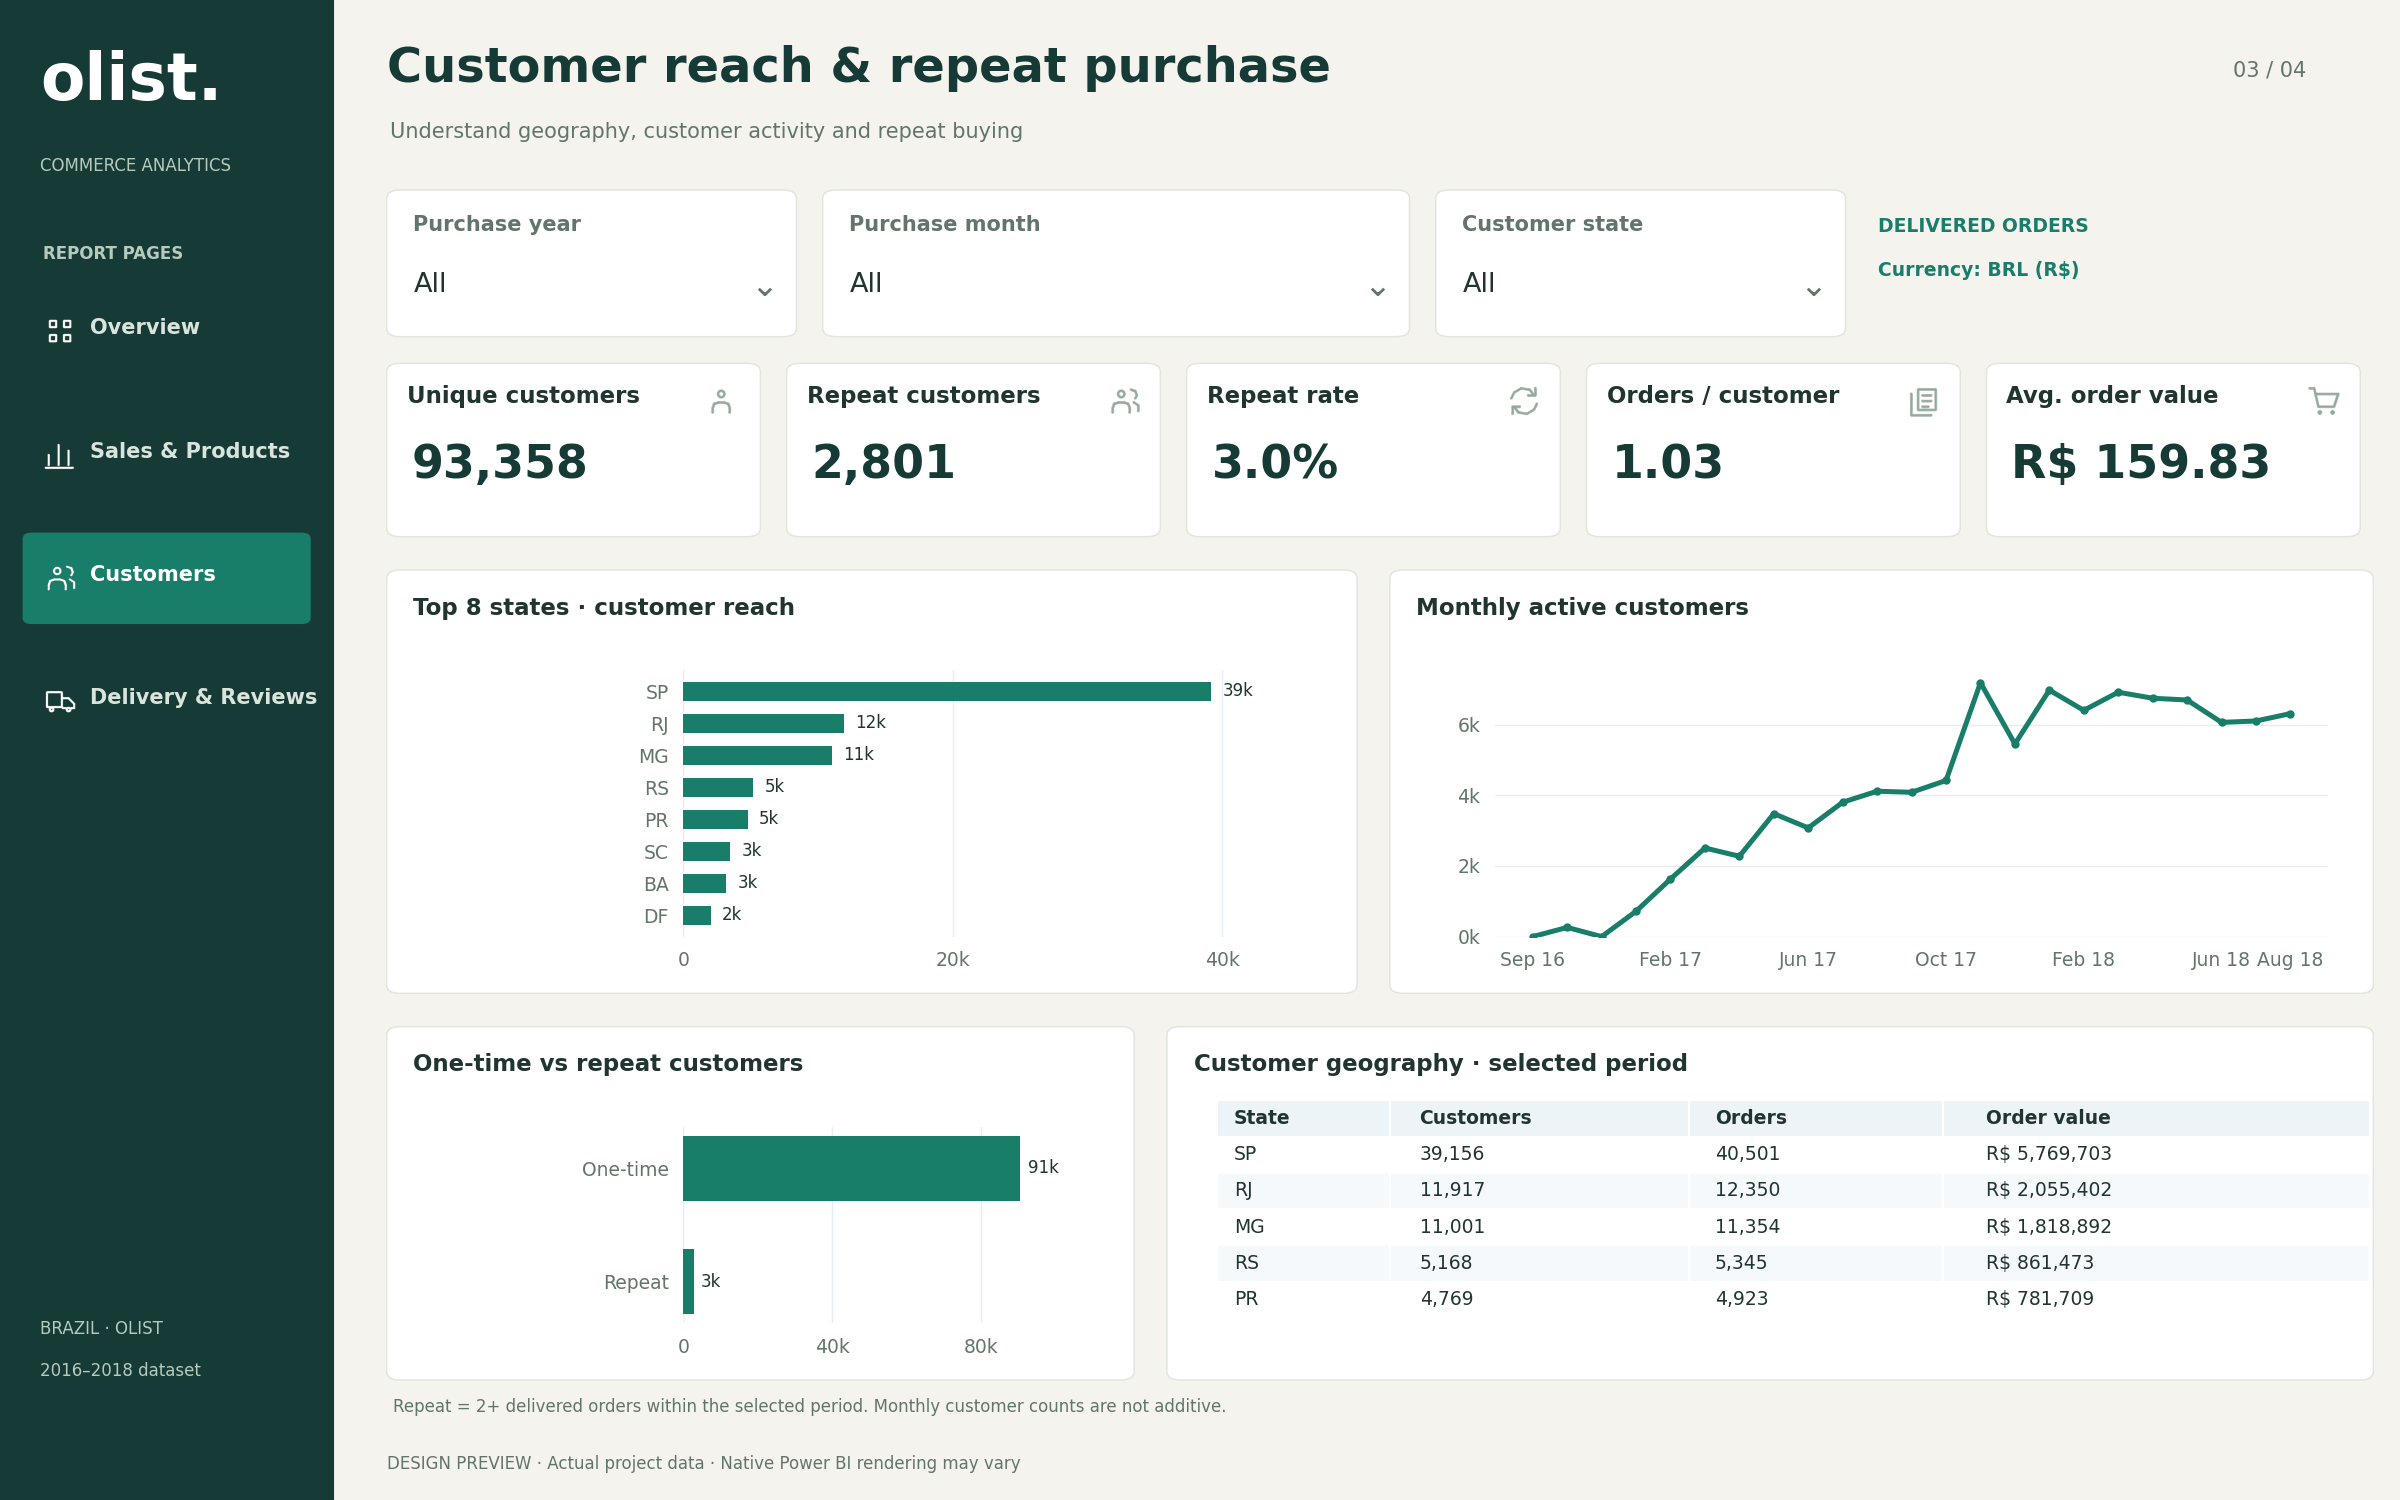

The dashboard page shown, as its layout file describes it:
{"tool":"powerbi","page":{"name":"Customers","canvas":[1440,900],"ordinal":2},"visuals":[{"type":"textbox","box":[0,0,200,900],"z":54},{"type":"textbox","box":[24,22,135,68],"z":55},{"type":"textbox","box":[24,94,140,38],"z":56},{"type":"actionButton","box":[14,172,172,54],"z":57},{"type":"actionButton","box":[14,246,172,54],"z":58},{"type":"actionButton","box":[14,320,172,54],"z":59},{"type":"actionButton","box":[14,394,172,54],"z":60},{"type":"textbox","box":[24,790,142,78],"z":61},{"type":"textbox","box":[232,18,1022.8,58],"z":62},{"type":"textbox","box":[234,72,1022.8,36],"z":63},{"type":"slicer","title":"Purchase Year","fields":{"Values":["Date.Year"]},"box":[232,114,245.9,88],"z":64},{"type":"slicer","title":"Purchase Month","fields":{"Values":["Date.Month"]},"box":[493.6,114,352.1,88],"z":65},{"type":"slicer","title":"Customer state","fields":{"Values":["Orders.State"]},"box":[861.4,114,245.9,88],"z":66},{"type":"textbox","box":[1127,114,277.4,88],"z":67},{"type":"textbox","box":[232,854,1172.3,38],"z":68},{"type":"card","fields":{"Values":["Orders.Card · Customers"]},"box":[232,218,224.2,104],"z":69},{"type":"card","fields":{"Values":["Orders.Card · Repeat Customers"]},"box":[472,218,224.2,104],"z":70},{"type":"card","fields":{"Values":["Orders.Card · Repeat Customer Rate"]},"box":[712,218,224.2,104],"z":71},{"type":"card","fields":{"Values":["Orders.Card · Orders per Customer"]},"box":[951.9,218,224.2,104],"z":72},{"type":"card","fields":{"Values":["Orders.Card · Average Order Value"]},"box":[1191.9,218,224.2,104],"z":73},{"type":"clusteredBarChart","title":"Top 8 states · customer reach","fields":{"Category":["Orders.State"],"Y":["Orders.Top State Customers"]},"box":[232,342,582.2,254],"z":74},{"type":"lineChart","title":"Monthly active customers","fields":{"Category":["Date.Month Start"],"Y":["Orders.Customers"]},"box":[833.9,342,590.1,254],"z":75},{"type":"clusteredBarChart","title":"One-time vs repeat customers","fields":{"Category":["Customer Segment.Segment"],"Y":["Orders.Segment Customers"]},"box":[232,616,448.5,212],"z":76},{"type":"tableEx","title":"Customer geography · selected period","fields":{"Values":["Orders.State","Orders.Customers","Orders.Delivered Orders","Orders.Total Order Value","Orders.Repeat Customer Rate"]},"box":[700.1,616,723.9,212],"z":77},{"type":"textbox","box":[235.9,832,1172.3,22],"z":78},{"type":"textbox","box":[244,231,172.2,26],"z":101},{"type":"image","box":[424.2,231,20,20],"z":102},{"type":"textbox","box":[484,231,172.2,26],"z":103},{"type":"image","box":[664.2,231,20,20],"z":104},{"type":"textbox","box":[724,231,172.2,26],"z":105},{"type":"image","box":[904.2,231,20,20],"z":106},{"type":"textbox","box":[963.9,231,172.2,26],"z":107},{"type":"image","box":[1144.2,231,20,20],"z":108},{"type":"textbox","box":[1203.9,231,172.2,26],"z":109},{"type":"image","box":[1384.1,231,20,20],"z":110},{"type":"textbox","box":[26,147,150,22],"z":111},{"type":"textbox","box":[1340,36,80,26],"z":112}]}

Visuals, with their boxes on the page's 1440x900 design canvas (x1, y1, x2, y2). These are canvas units, not pixel positions in the 2400x1500 screenshot, which may show the page scaled, cropped or inside an application window:
textbox: 0 0 200 900
textbox: 24 22 159 90
textbox: 24 94 164 132
actionButton: 14 172 186 226
actionButton: 14 246 186 300
actionButton: 14 320 186 374
actionButton: 14 394 186 448
textbox: 24 790 166 868
textbox: 232 18 1255 76
textbox: 234 72 1257 108
"Purchase Year" slicer: 232 114 478 202
"Purchase Month" slicer: 494 114 846 202
"Customer state" slicer: 861 114 1107 202
textbox: 1127 114 1404 202
textbox: 232 854 1404 892
card - Orders.Card · Customers: 232 218 456 322
card - Orders.Card · Repeat Customers: 472 218 696 322
card - Orders.Card · Repeat Customer Rate: 712 218 936 322
card - Orders.Card · Orders per Customer: 952 218 1176 322
card - Orders.Card · Average Order Value: 1192 218 1416 322
"Top 8 states · customer reach" clusteredBarChart: 232 342 814 596
"Monthly active customers" lineChart: 834 342 1424 596
"One-time vs repeat customers" clusteredBarChart: 232 616 680 828
"Customer geography · selected period" tableEx: 700 616 1424 828
textbox: 236 832 1408 854
textbox: 244 231 416 257
image: 424 231 444 251
textbox: 484 231 656 257
image: 664 231 684 251
textbox: 724 231 896 257
image: 904 231 924 251
textbox: 964 231 1136 257
image: 1144 231 1164 251
textbox: 1204 231 1376 257
image: 1384 231 1404 251
textbox: 26 147 176 169
textbox: 1340 36 1420 62
